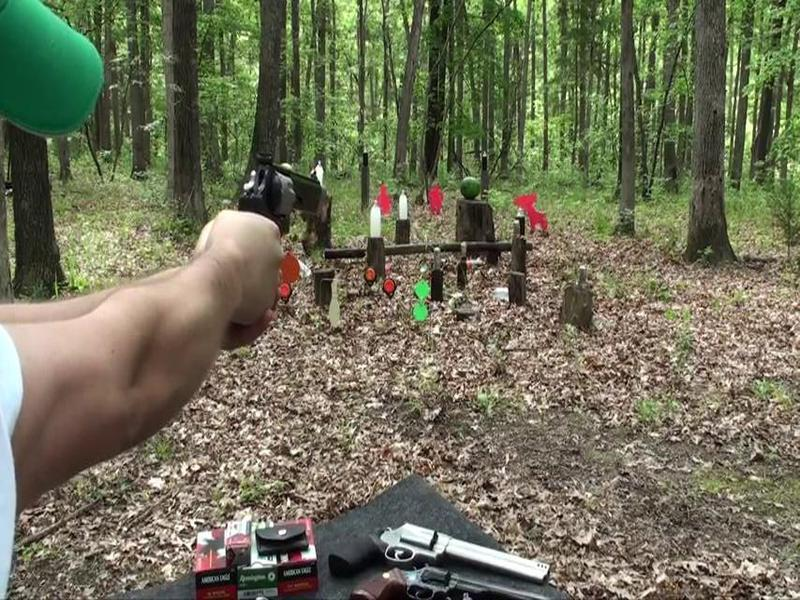Revolver: (227, 139, 337, 271)
